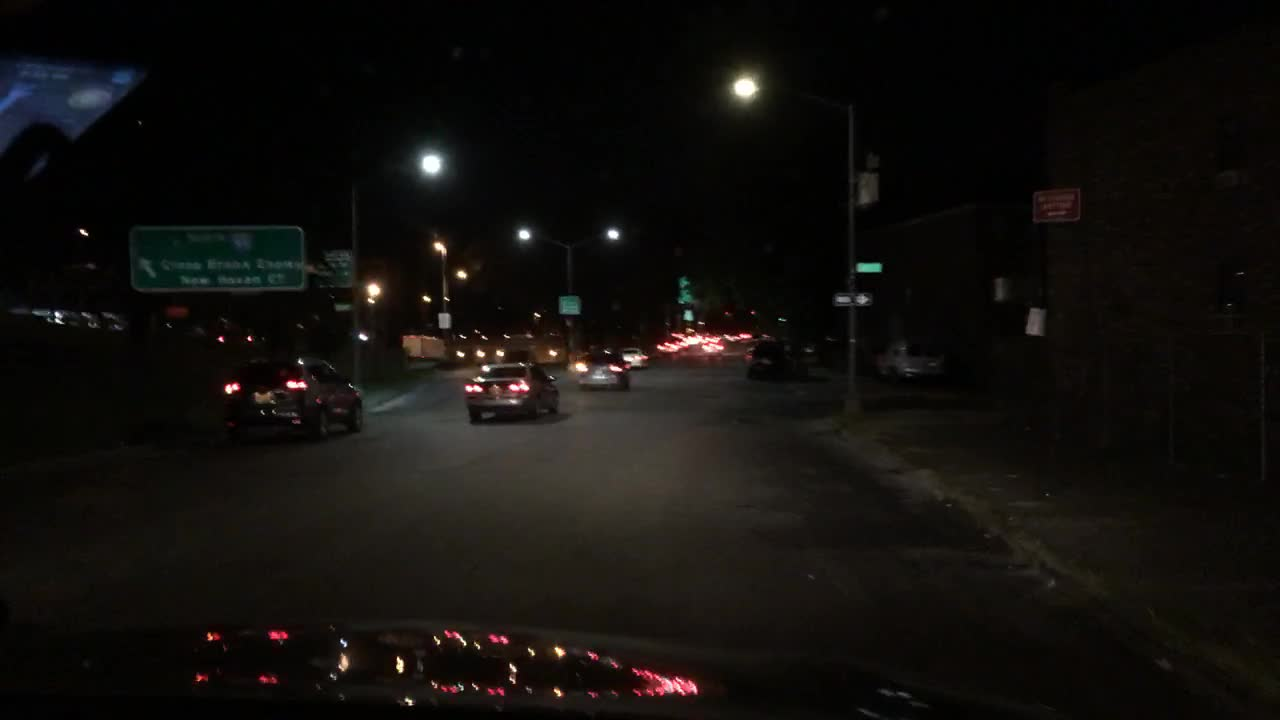car: (222, 354, 364, 442), (462, 361, 558, 425), (870, 334, 948, 381), (577, 346, 631, 395), (742, 341, 793, 385), (212, 326, 273, 351), (617, 346, 649, 371), (654, 336, 680, 359), (501, 347, 536, 363), (725, 324, 752, 342), (666, 329, 690, 349), (685, 329, 703, 344), (703, 329, 719, 342)
traffic sign: (126, 224, 303, 288), (1029, 185, 1078, 219), (317, 246, 352, 287), (557, 292, 581, 317), (832, 290, 870, 305), (676, 277, 697, 304), (329, 297, 352, 314), (855, 260, 881, 273), (435, 309, 449, 331), (680, 307, 695, 322)
truck: (398, 331, 450, 363)
